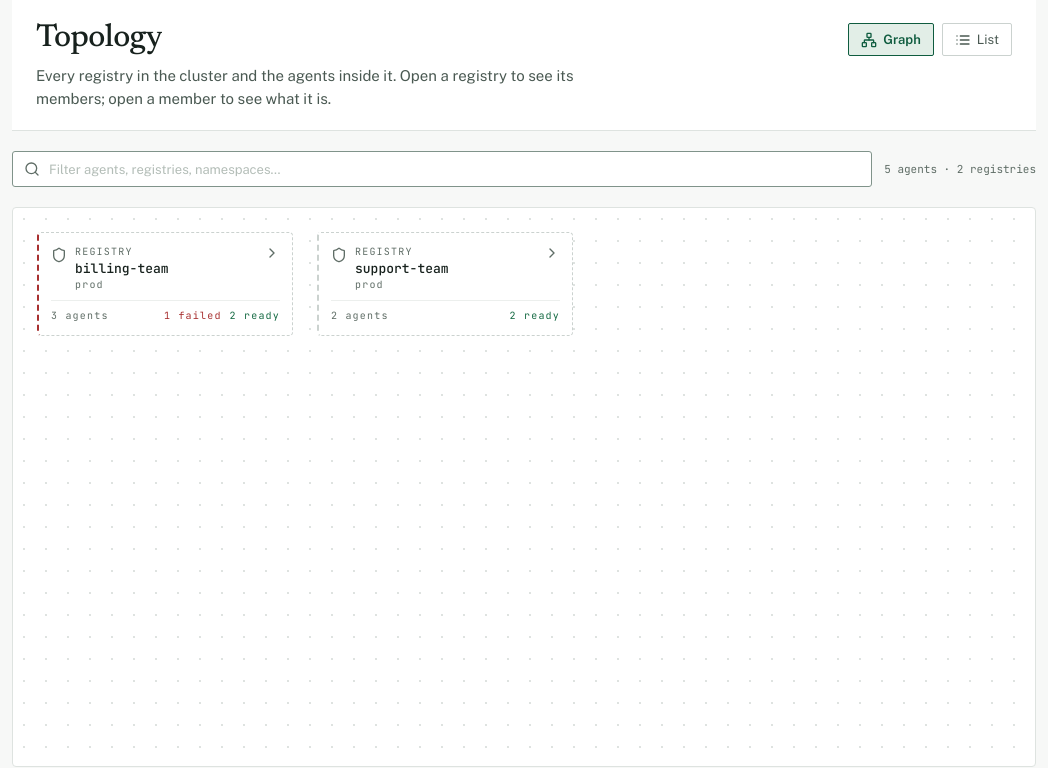
TopologyPage — grouped graph view › switches to list view on toggle click
What coordinates should you click on to do the following:
click the radio button with test id "toggle-list"
I would click on:
 (977, 40)
Its box is [942, 23, 1012, 56].
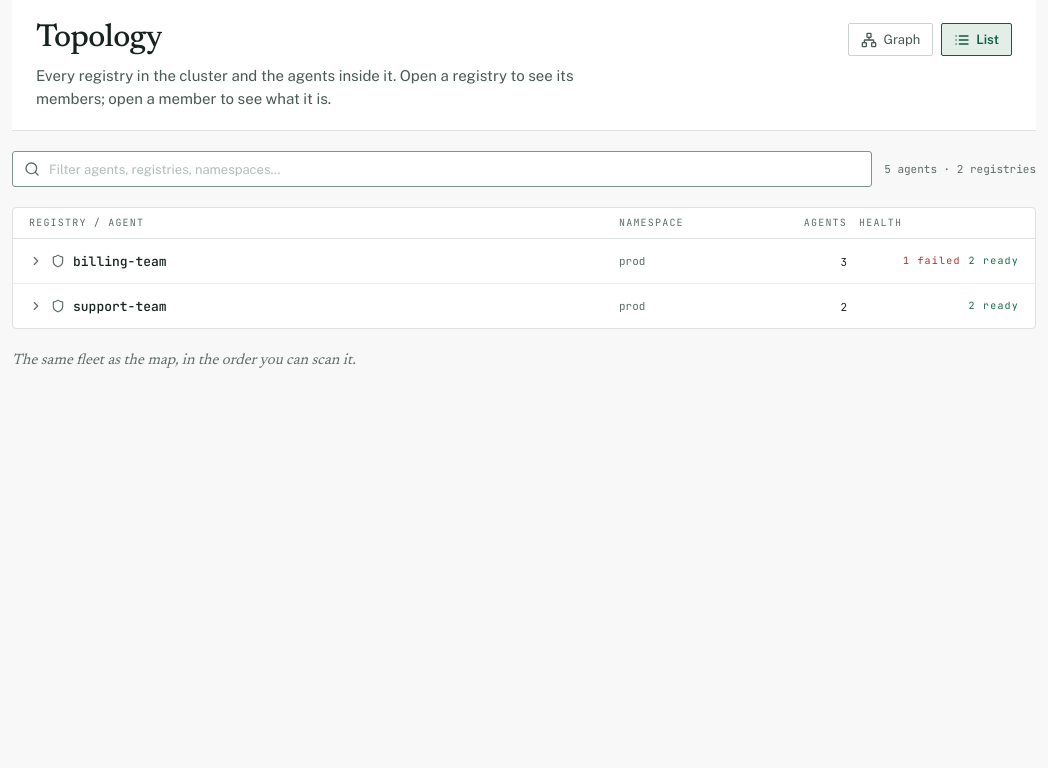
Check: the element with test id "topology-list-view" is shown, box [12, 207, 1036, 329]
Check: the element with test id "topology-graph-view" is gone
